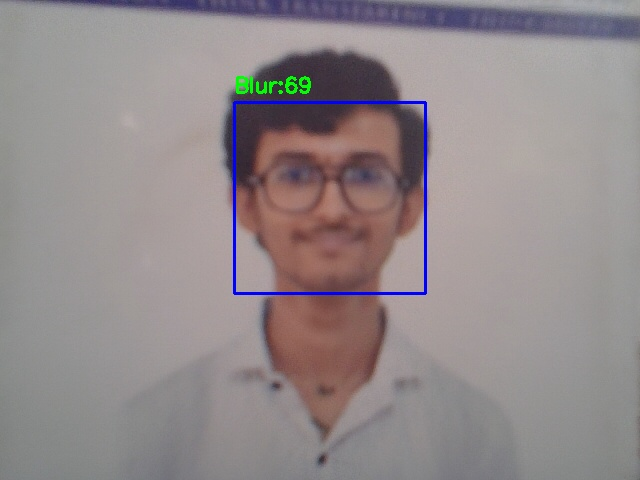fake: (234, 102, 425, 293)
